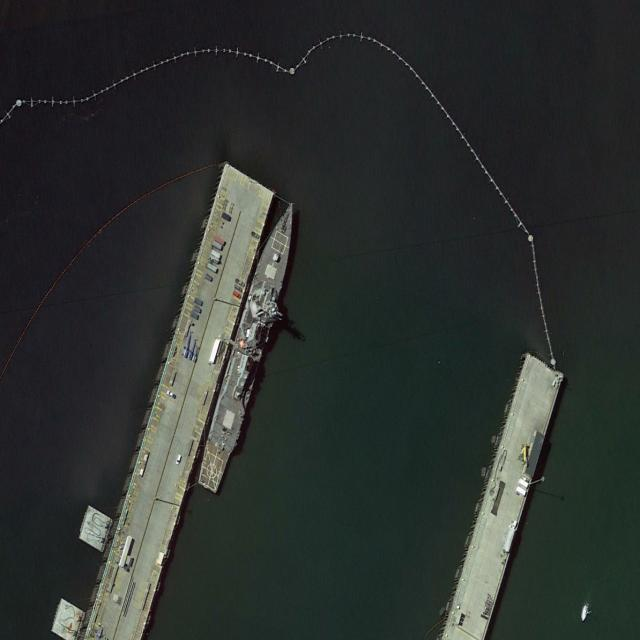Destroyer: (195, 192, 304, 496)
